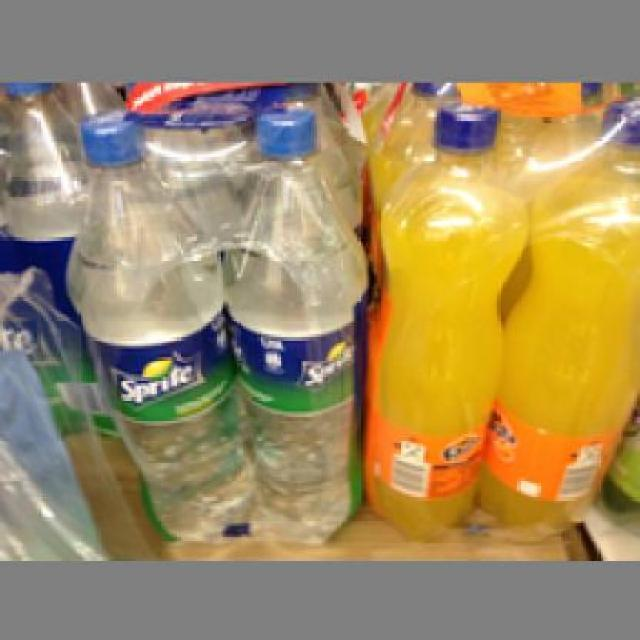Soda: (59, 106, 252, 534), (363, 99, 526, 535), (480, 94, 637, 523), (216, 106, 370, 534)
